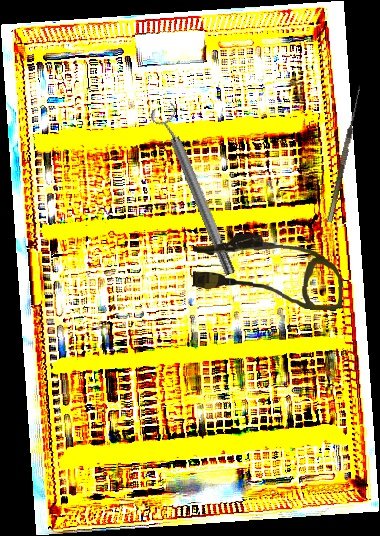Cannula: (191, 232, 345, 311)
Fixation Ring: (148, 101, 243, 280)
Hook Surgical: (319, 83, 364, 223)
